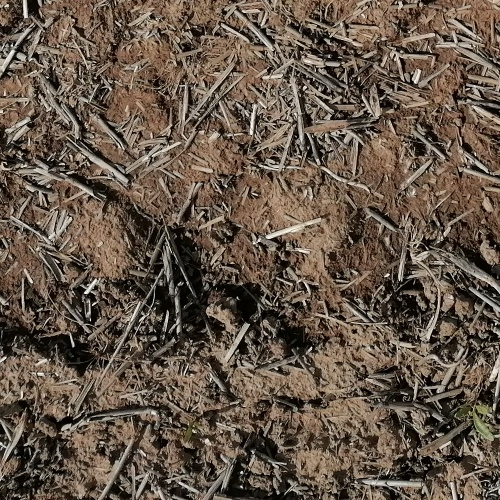beet: (462, 403, 494, 443)
